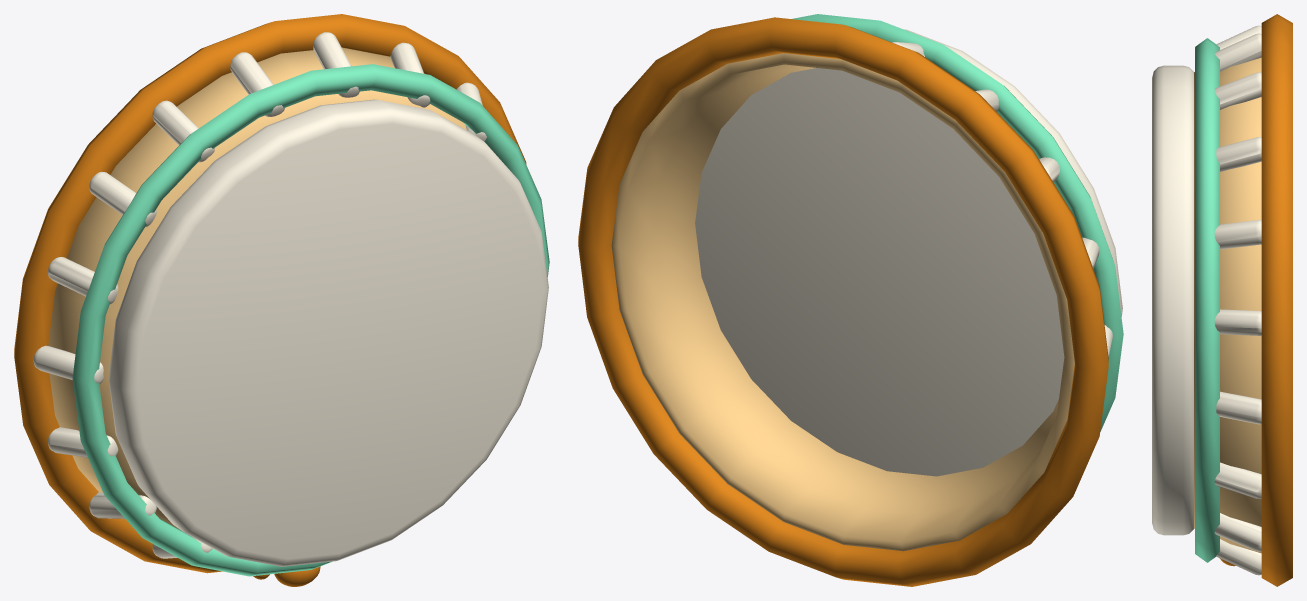
Rendered from GardenYarnBall_Premium.fbx.
The picture shows the model from 3 angles, left to right: view 1: azimuth 30°, elevation 25°; view 2: azimuth 150°, elevation 25°; view 3: azimuth 270°, elevation 25°; orthographic projection. The views are drawn at different scales.
Visible parts, largest first — view 1: GardenYarnBall; view 2: GardenYarnBall; view 3: GardenYarnBall.
Boxes of the visible parts, left/top/right/bottom form: GardenYarnBall: left=14, top=14, right=549, bottom=586; GardenYarnBall: left=578, top=14, right=1123, bottom=586; GardenYarnBall: left=1152, top=14, right=1292, bottom=586.
Size of the model in its own units: 0.478 by 0.48 by 0.117.
